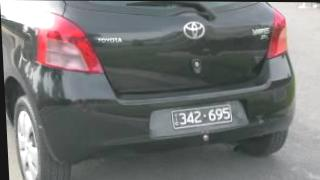License_Plate: (165, 102, 236, 136)
